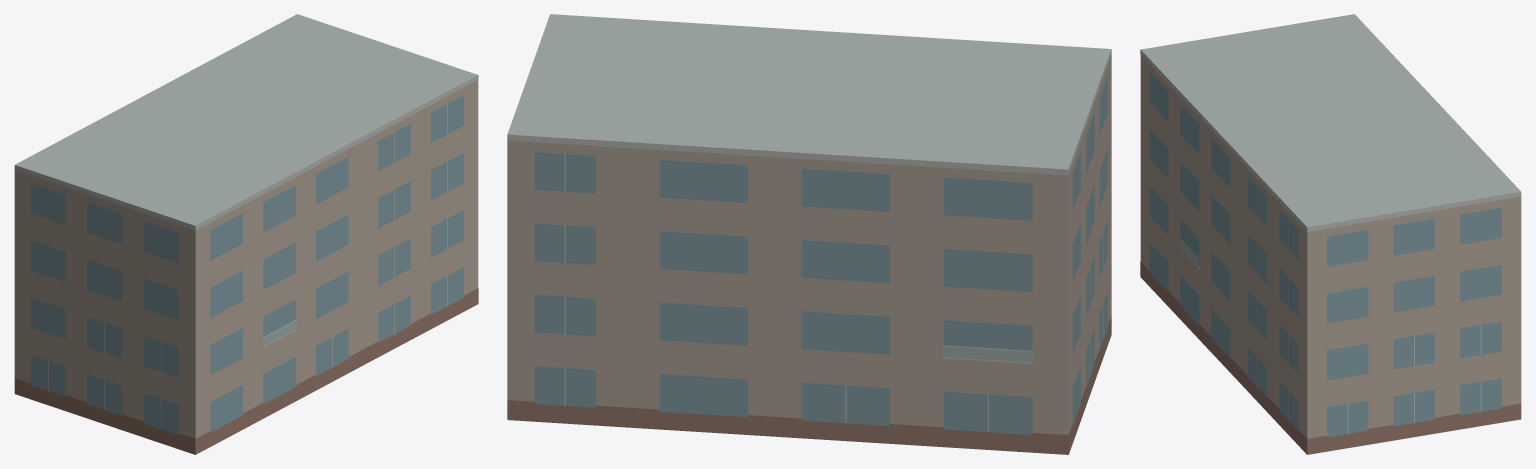
File: survey-upis-32837627.glb
The picture shows the model from 3 angles, left to right: view 1: azimuth 30°, elevation 25°; view 2: azimuth 150°, elevation 25°; view 3: azimuth 270°, elevation 25°; orthographic projection. The views are drawn at different scales.
Visible parts, largest first — view 1: survey-upis-32837627.tmp; view 2: survey-upis-32837627.tmp; view 3: survey-upis-32837627.tmp.
Boxes of the visible parts, box(x1,y1,x2,y2) form: survey-upis-32837627.tmp: box(14, 14, 478, 454); survey-upis-32837627.tmp: box(507, 14, 1111, 454); survey-upis-32837627.tmp: box(1140, 14, 1521, 454).
Size of the model in its own units: 23.73 by 11.8 by 17.91.
